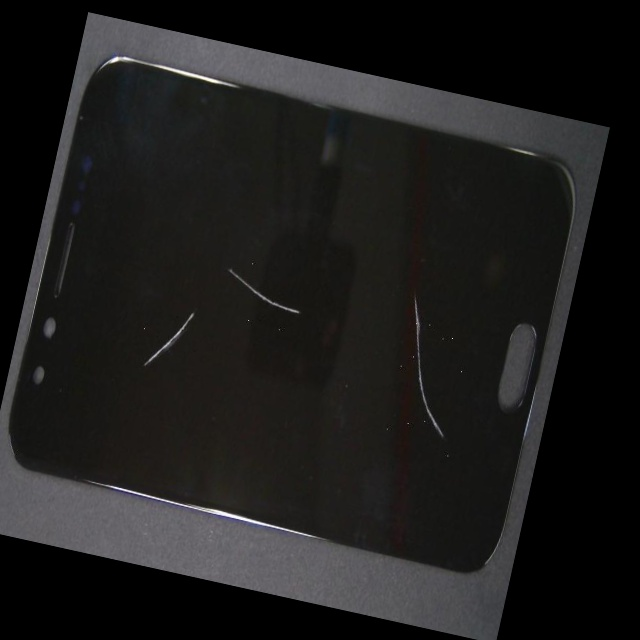scratch: (201, 118, 595, 438), (49, 117, 378, 447), (32, 174, 238, 550)
